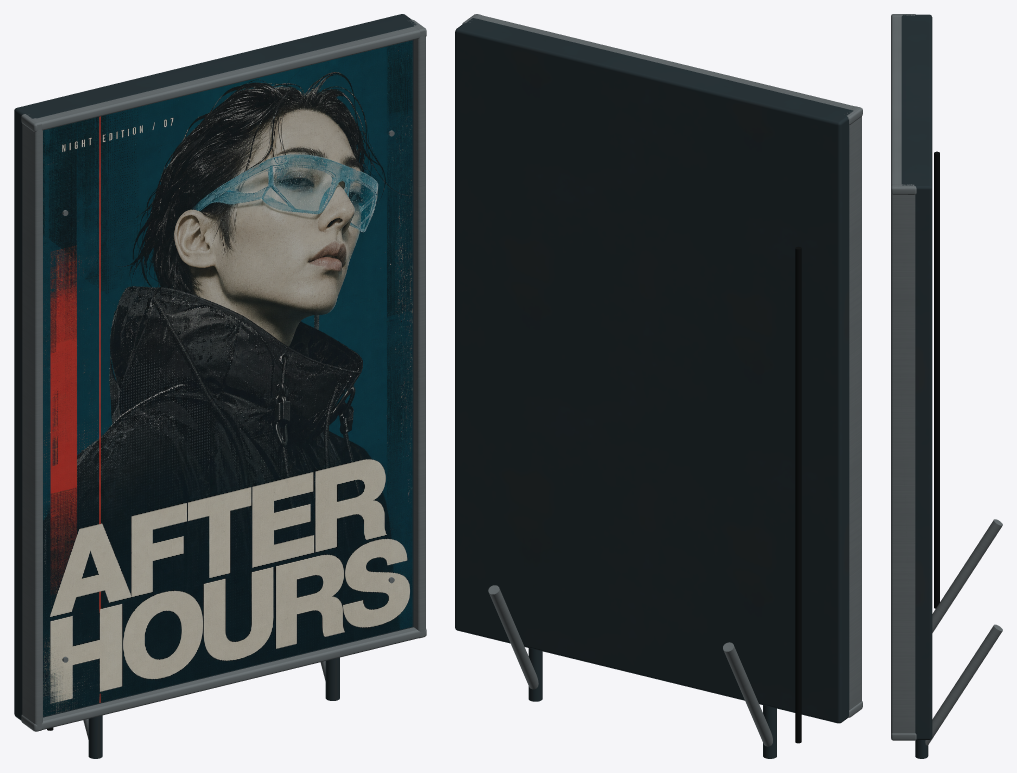
Rendered from NC_Sign_portrait_LOD0.fbx.
3 views of the same model, side by side, from view 1: azimuth 30°, elevation 25°; view 2: azimuth 150°, elevation 25°; view 3: azimuth 270°, elevation 25° (orthographic). The views are drawn at different scales.
Parts seen in each view (by area): view 1: NC_Sign_portrait_LOD0; view 2: NC_Sign_portrait_LOD0; view 3: NC_Sign_portrait_LOD0.
Boxes of the visible parts, x1,y1,x2,y2 form: NC_Sign_portrait_LOD0: (14,14,426,758); NC_Sign_portrait_LOD0: (455,14,862,758); NC_Sign_portrait_LOD0: (891,14,1002,758).
Bounding box in the file's own units: 350 × 564 × 94.87.
